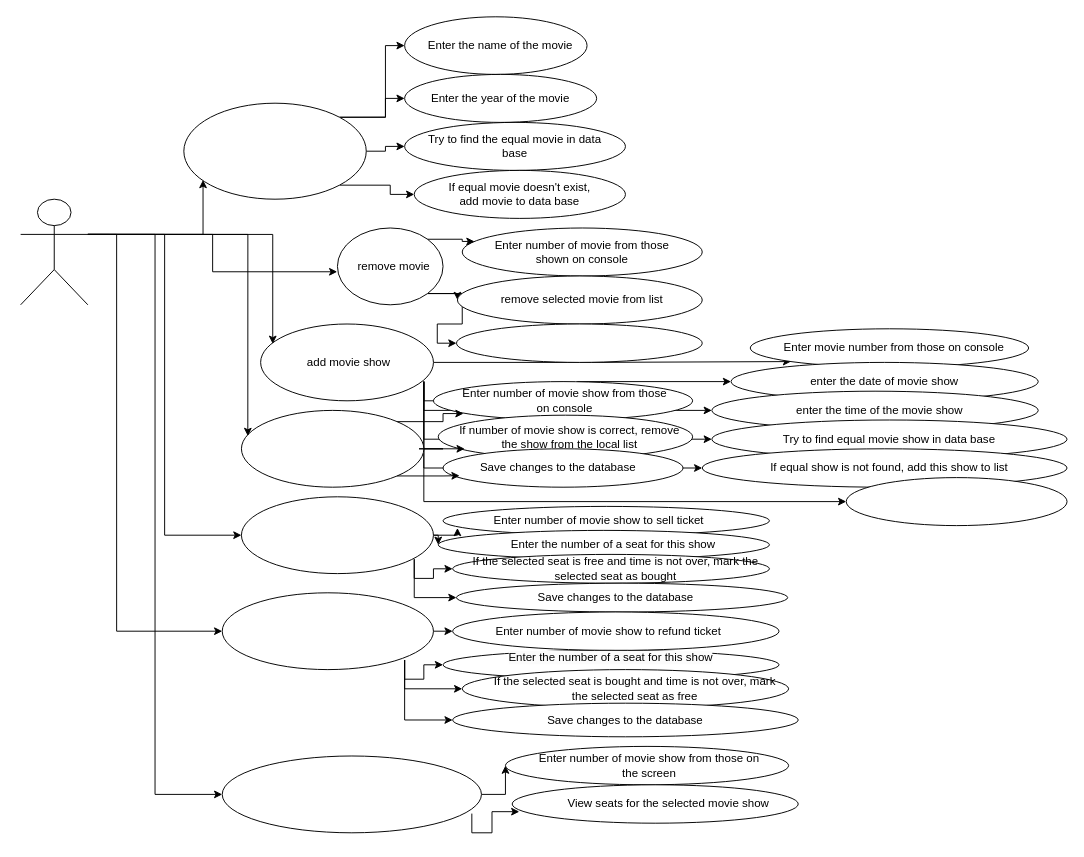
Image size: 1084x857. Some labels were removed from this diagram. Each missing label, with the box of its shape:
add new movie: (183, 102, 366, 199)
Cinema Admin: (20, 198, 88, 305)
refund ticket for a movie show: (221, 592, 433, 670)
remove movie show: (240, 409, 424, 487)
Save changes to data base: (456, 323, 702, 362)
Save changes to database: (845, 477, 1067, 526)
sell ticket for a movie show: (240, 496, 433, 574)
View free and bought seats for the movie show: (221, 755, 481, 833)
